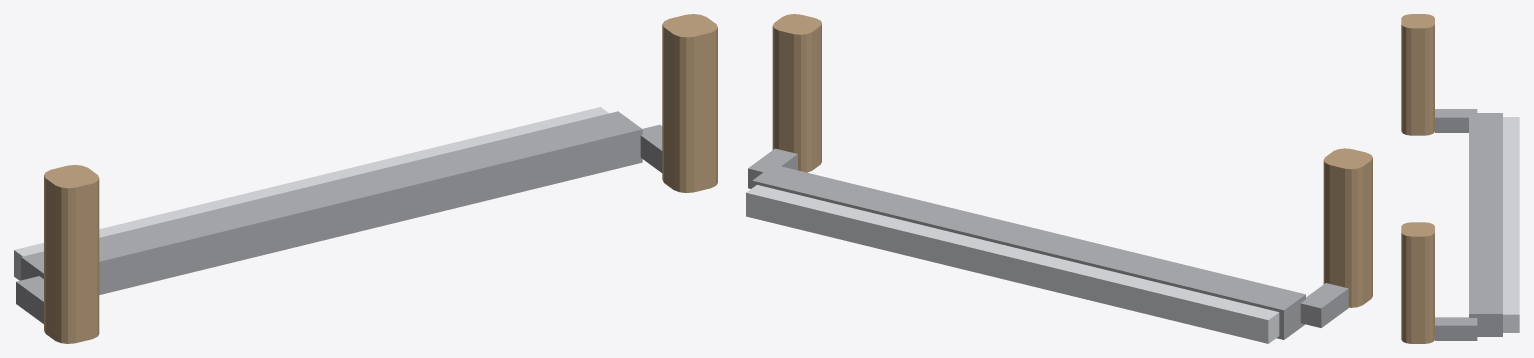
The model's file is prop_knife.glb.
3 renders of one model, left to right at view 1: azimuth 30°, elevation 25°; view 2: azimuth 150°, elevation 25°; view 3: azimuth 270°, elevation 25°, orthographic. The views are drawn at different scales.
Visible parts, largest first — view 1: Knife.Blade, Knife.Handle#2, Knife.Handle, Knife.Edge, Knife.Tang, Knife.Tang#2; view 2: Knife.Edge, Knife.Blade, Knife.Handle, Knife.Handle#2, Knife.Tang, Knife.Tang#2; view 3: Knife.Blade, Knife.Handle, Knife.Handle#2, Knife.Edge, Knife.Tang#2, Knife.Tang.
Boxes of the visible parts, x1,y1,x2,y2 form: Knife.Blade: (21, 111, 642, 294); Knife.Handle#2: (662, 14, 717, 192); Knife.Handle: (44, 165, 99, 343); Knife.Edge: (14, 107, 608, 280); Knife.Tang: (16, 276, 43, 323); Knife.Tang#2: (640, 124, 662, 172); Knife.Edge: (746, 185, 1279, 343); Knife.Blade: (752, 164, 1305, 339); Knife.Handle: (1323, 148, 1372, 307); Knife.Handle#2: (772, 14, 821, 172); Knife.Tang: (1300, 283, 1348, 327); Knife.Tang#2: (748, 148, 797, 188); Knife.Blade: (1469, 113, 1502, 336); Knife.Handle: (1401, 14, 1434, 135); Knife.Handle#2: (1401, 222, 1434, 343); Knife.Edge: (1503, 117, 1519, 332); Knife.Tang#2: (1435, 317, 1477, 340); Knife.Tang: (1435, 109, 1477, 132).
Bounding box in the file's own units: 0.622 × 0.145 × 0.14.
